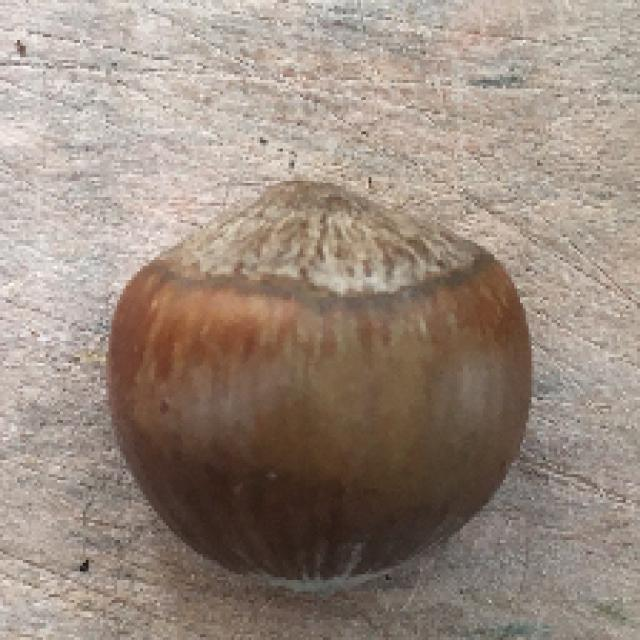damagedHazelnut: (99, 162, 536, 614)
